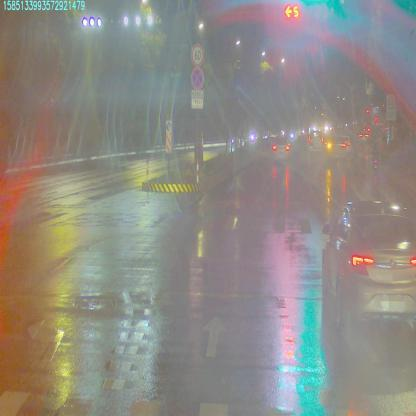traffic-light: (282, 4, 300, 18)
